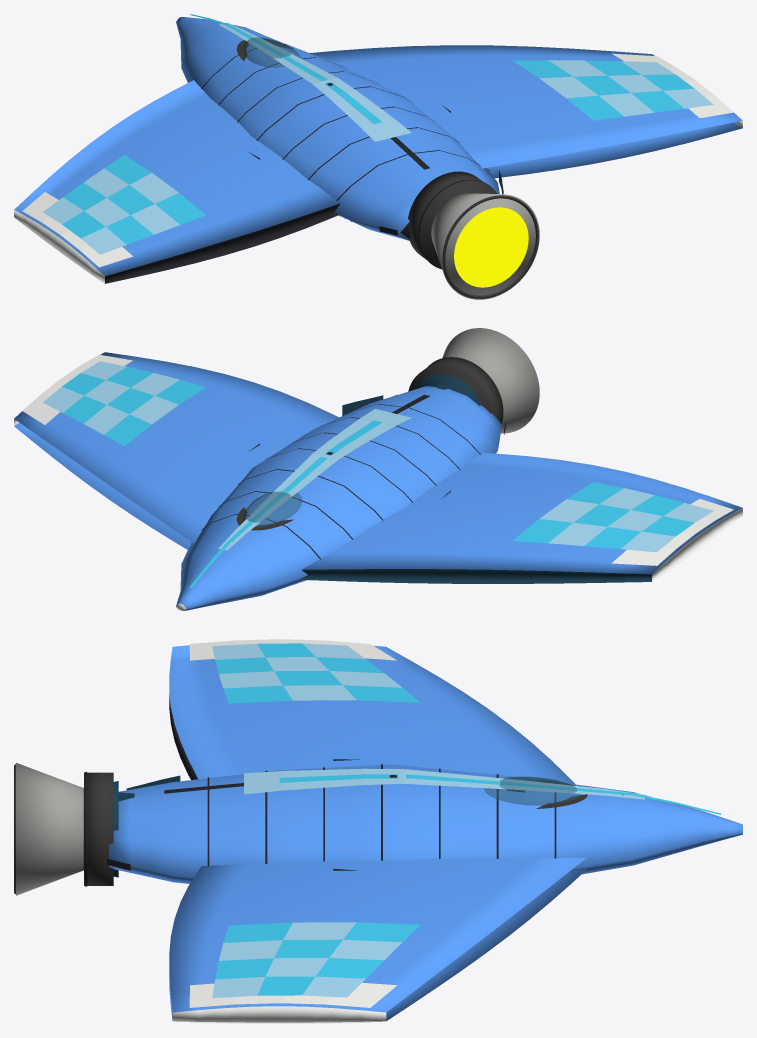
Rendered from Ship_ManraRay_190663.glb.
3 renders of one model, top to bottom at view 1: azimuth 30°, elevation 25°; view 2: azimuth 150°, elevation 25°; view 3: azimuth 270°, elevation 25°, orthographic. The views are drawn at different scales.
Parts seen in each view (by area): view 1: Wing_Left_MantaAerofoil, Fuselage_CentralRayHull_FacetedAeroBody, Wing_Right_MantaAerofoil, EngineEmitter, EngineBell_CentralMainRocketNozzle, PaintDorsalSweep_PrimaryMantaArrow, EngineMount_AftCentralTailBlock, WingTipTrim_Left_HardCutOuterPlate_Top, WingTipTrim_Right_HardCutOuterPlate_Top, CanopyGlass_LowInsetMantaDome, EngineBell_CentralDarkLip, PaintDorsalSweep_SecondaryNeedleLine (+24 smaller); view 2: Fuselage_CentralRayHull_FacetedAeroBody, Wing_Left_MantaAerofoil, Wing_Right_MantaAerofoil, EngineBell_CentralMainRocketNozzle, PaintDorsalSweep_PrimaryMantaArrow, EngineMount_AftCentralTailBlock, WingTipTrim_Left_HardCutOuterPlate_Top, CanopyGlass_LowInsetMantaDome, WingTipTrim_Right_HardCutOuterPlate_Top, PaintDorsalSweep_SecondaryNeedleLine, PaintOuterChecker_Left_01_03_Top, PaintOuterChecker_Left_02_03_Top (+23 smaller); view 3: Fuselage_CentralRayHull_FacetedAeroBody, Wing_Right_MantaAerofoil, Wing_Left_MantaAerofoil, EngineBell_CentralMainRocketNozzle, PaintDorsalSweep_PrimaryMantaArrow, EngineMount_AftCentralTailBlock, WingTipTrim_Right_HardCutOuterPlate_Top, CanopyGlass_LowInsetMantaDome, PaintDorsalSweep_SecondaryNeedleLine, WingTipTrim_Left_HardCutOuterPlate_Top, PaintOuterChecker_Right_01_03_Top, PaintOuterChecker_Right_02_03_Top (+22 smaller).
Boxes of the visible parts, x1,y1,x2,y2 form: Wing_Left_MantaAerofoil: (14,80,340,283); Fuselage_CentralRayHull_FacetedAeroBody: (176,17,499,240); Wing_Right_MantaAerofoil: (310,45,742,178); EngineEmitter: (454,207,528,287); EngineBell_CentralMainRocketNozzle: (431,193,539,299); PaintDorsalSweep_PrimaryMantaArrow: (219,22,411,141); EngineMount_AftCentralTailBlock: (408,171,496,268); WingTipTrim_Left_HardCutOuterPlate_Top: (22,192,132,267); WingTipTrim_Right_HardCutOuterPlate_Top: (612,53,733,117); CanopyGlass_LowInsetMantaDome: (243,37,301,67); EngineBell_CentralDarkLip: (442,195,538,298); PaintDorsalSweep_SecondaryNeedleLine: (189,14,382,124); Fuselage_CentralRayHull_FacetedAeroBody: (176,386,501,610); Wing_Left_MantaAerofoil: (300,452,742,583); Wing_Right_MantaAerofoil: (14,352,338,549); EngineBell_CentralMainRocketNozzle: (442,328,539,433); PaintDorsalSweep_PrimaryMantaArrow: (218,409,411,550); EngineMount_AftCentralTailBlock: (408,357,503,422); WingTipTrim_Left_HardCutOuterPlate_Top: (612,499,733,565); CanopyGlass_LowInsetMantaDome: (243,491,301,527); WingTipTrim_Right_HardCutOuterPlate_Top: (22,354,132,424); PaintDorsalSweep_SecondaryNeedleLine: (189,420,382,587); PaintOuterChecker_Left_01_03_Top: (512,519,572,543); PaintOuterChecker_Left_02_03_Top: (548,522,606,545); Fuselage_CentralRayHull_FacetedAeroBody: (109,764,742,883); Wing_Right_MantaAerofoil: (169,857,587,1022); Wing_Left_MantaAerofoil: (169,645,575,784); EngineBell_CentralMainRocketNozzle: (16,763,83,895); PaintDorsalSweep_PrimaryMantaArrow: (244,768,644,799); EngineMount_AftCentralTailBlock: (84,772,113,885); WingTipTrim_Right_HardCutOuterPlate_Top: (189,982,396,1007); CanopyGlass_LowInsetMantaDome: (484,776,580,805); PaintDorsalSweep_SecondaryNeedleLine: (279,774,720,814); WingTipTrim_Left_HardCutOuterPlate_Top: (189,639,396,660); PaintOuterChecker_Right_01_03_Top: (343,922,420,942); PaintOuterChecker_Right_02_03_Top: (329,939,402,960).
Size of the model in its own units: 7.74 by 1.19 by 6.52.
